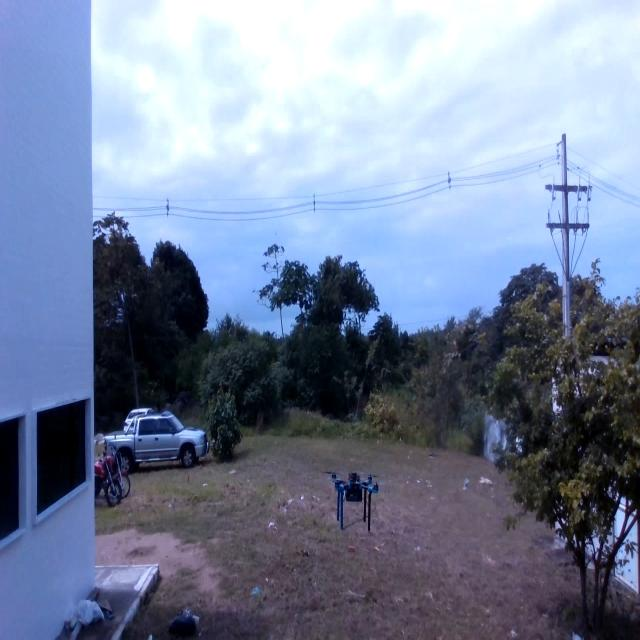-uav-: (321, 442, 383, 542)
